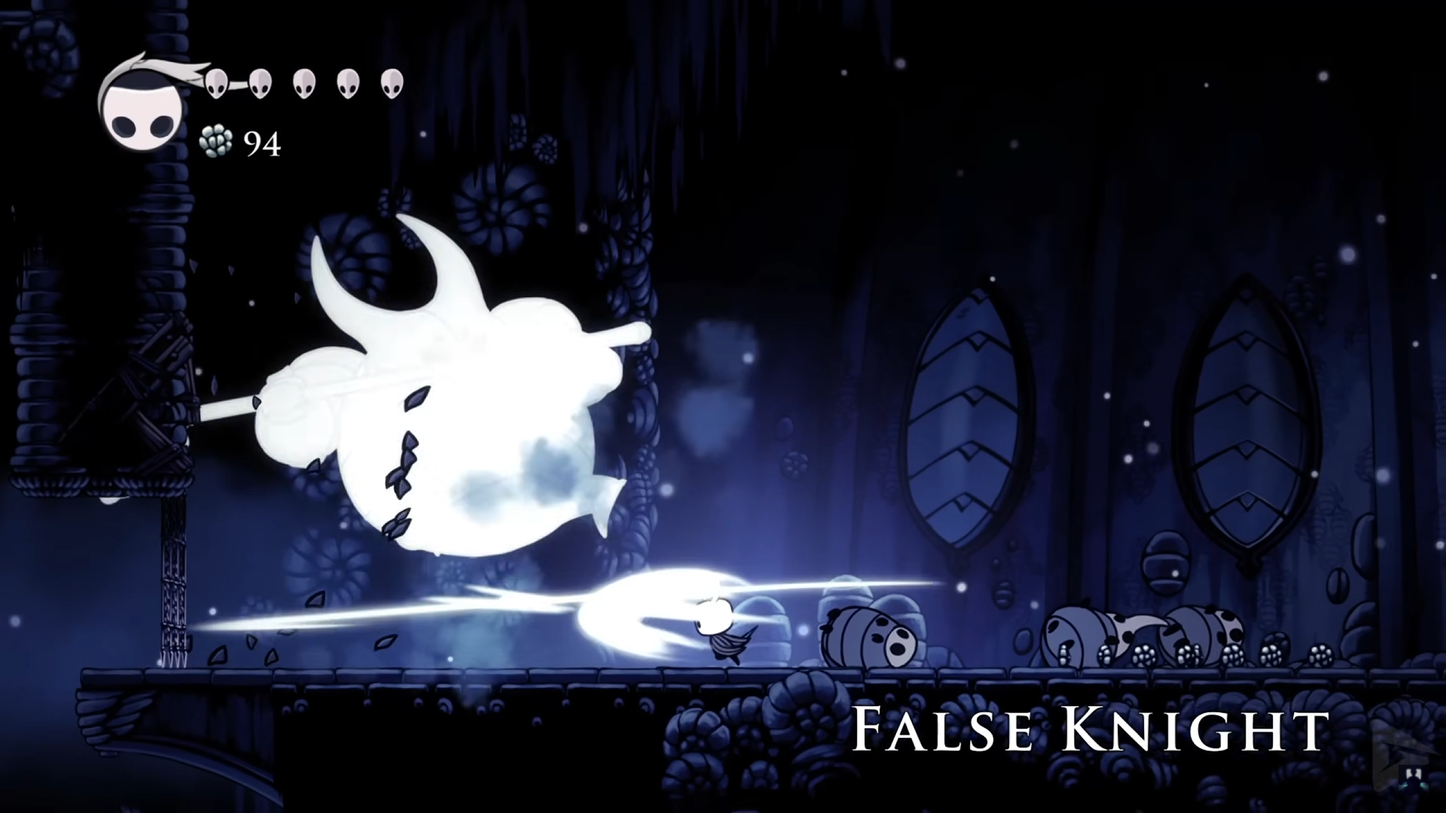HK: (690, 592, 747, 670)
